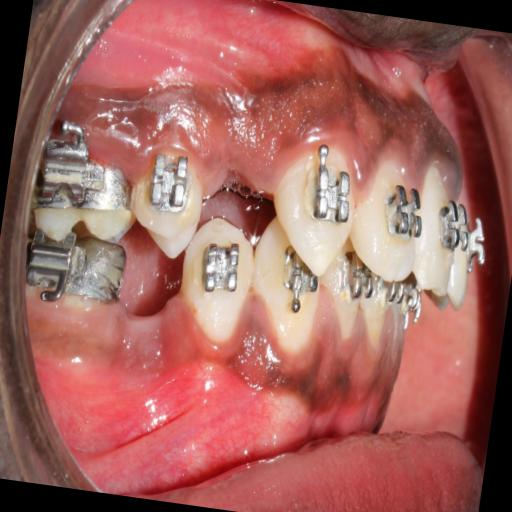correct_brace: (124, 148, 210, 264), (306, 158, 358, 234), (383, 174, 428, 244)
incorrect_brace: (351, 148, 432, 272), (142, 152, 192, 216)
